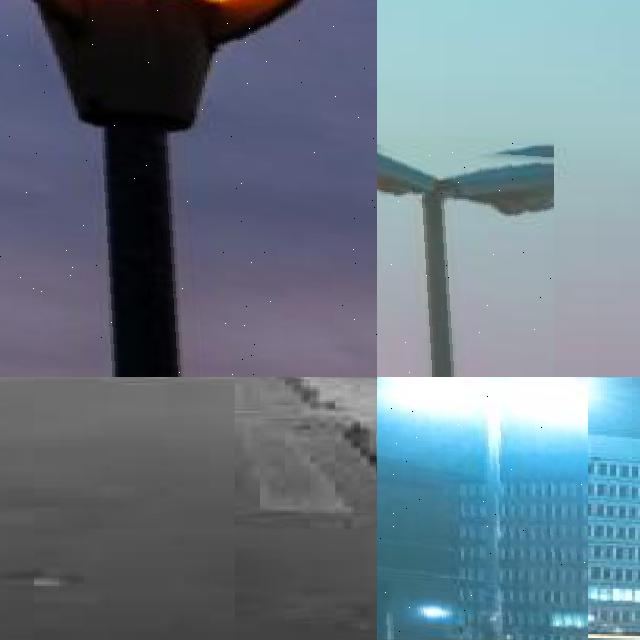street light: (0, 0, 377, 377), (377, 377, 588, 640), (377, 139, 554, 377), (377, 590, 429, 640)
